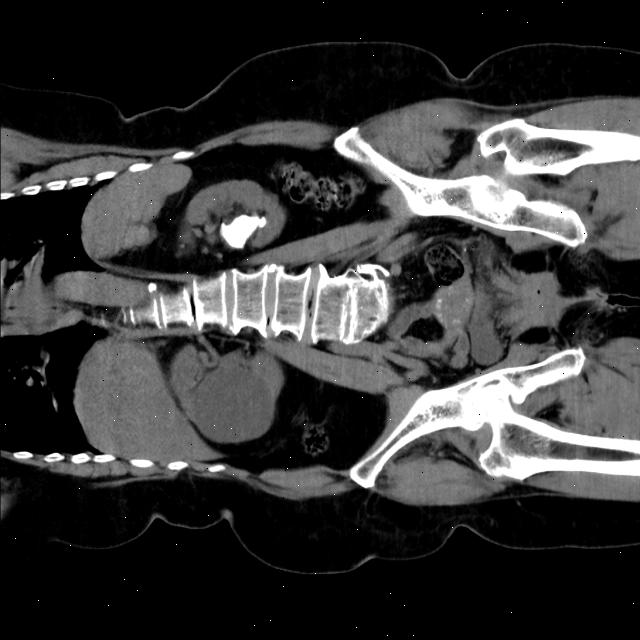kidneystone: (220, 214, 266, 248)
